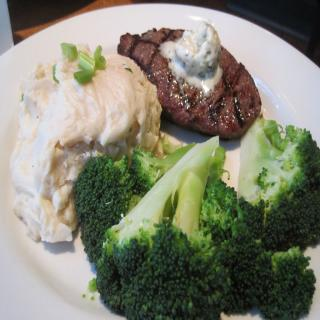Broccoli: (72, 110, 320, 320)
